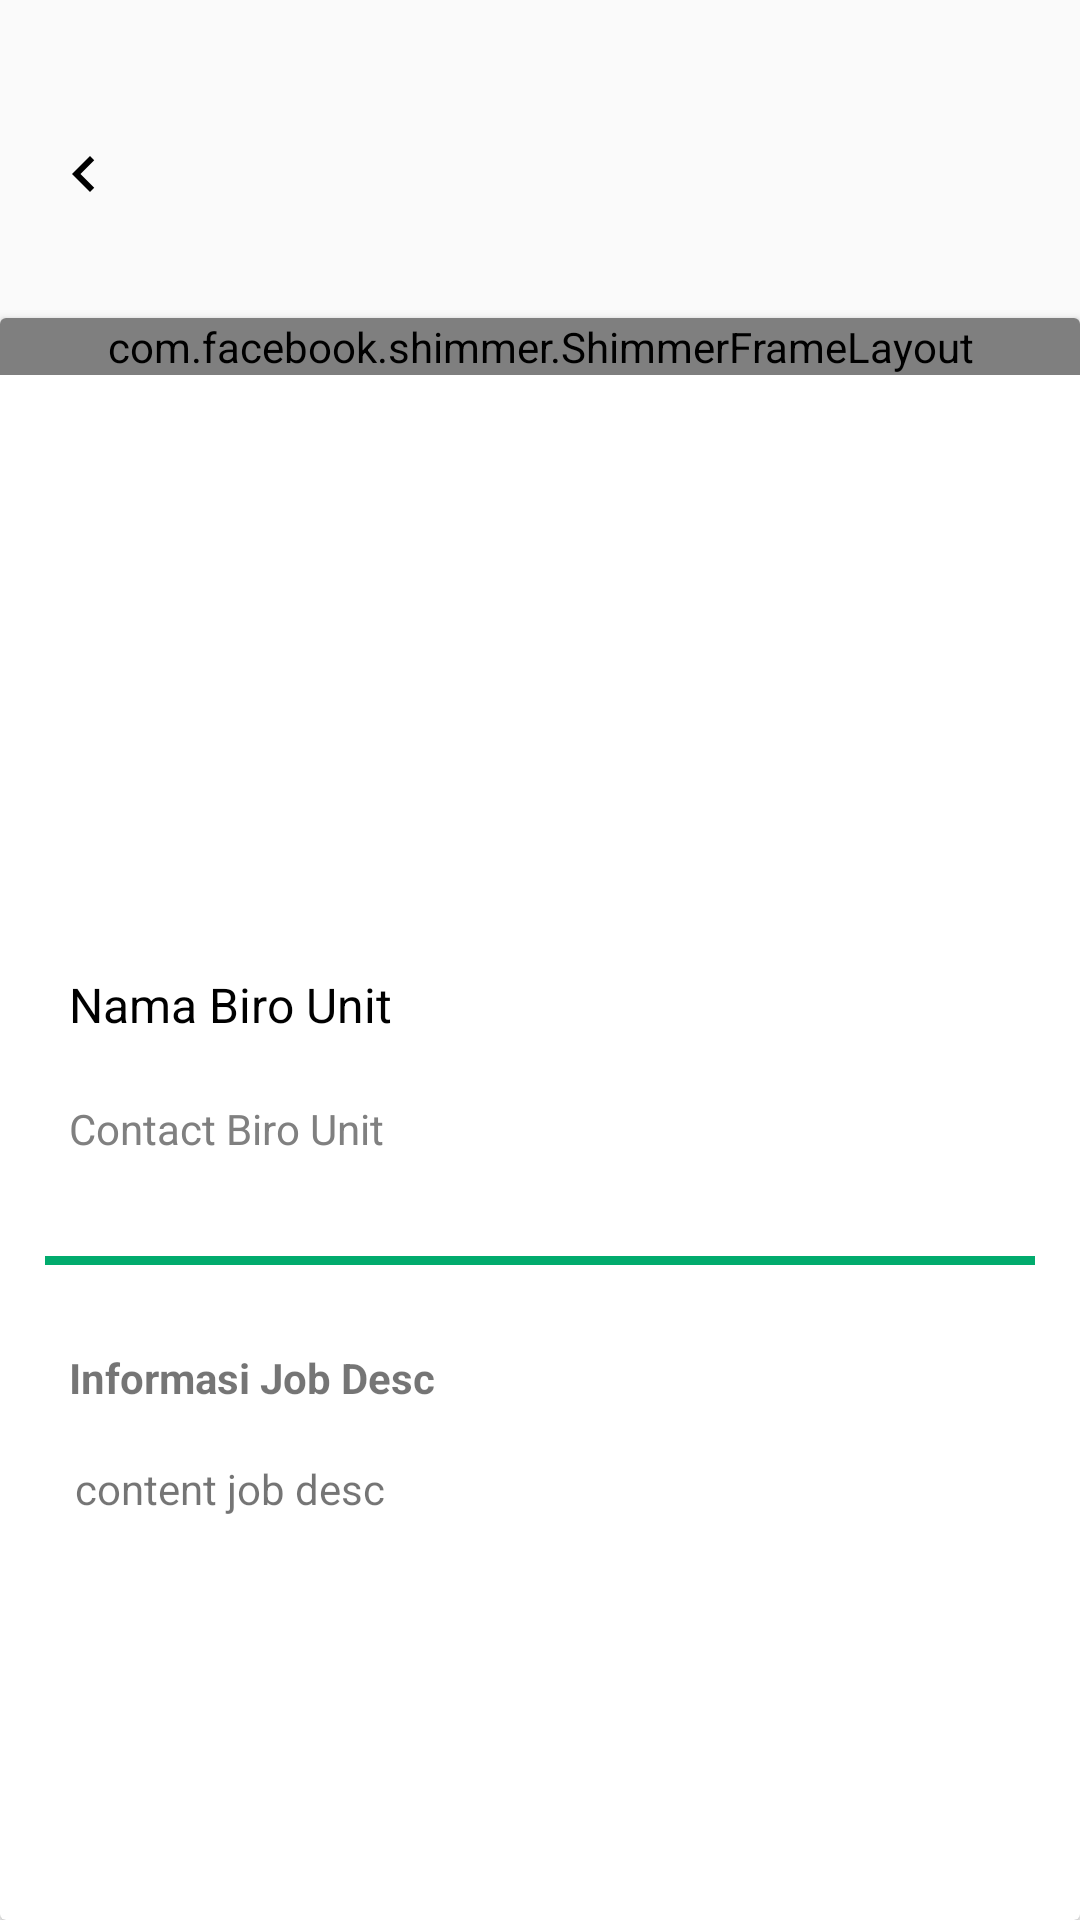

Icon click points for this 1080*1920 phone screenshot, format (x,y):
iconback: (83,174)
